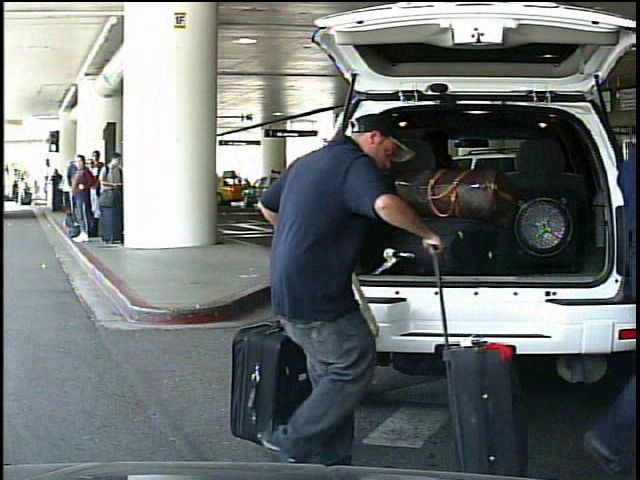person: (255, 101, 437, 476), (18, 176, 29, 207)
